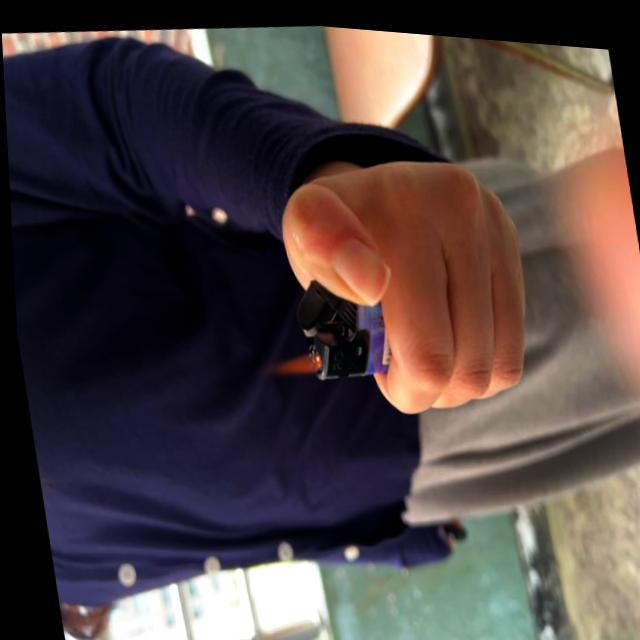Fire: (258, 337, 323, 377)
